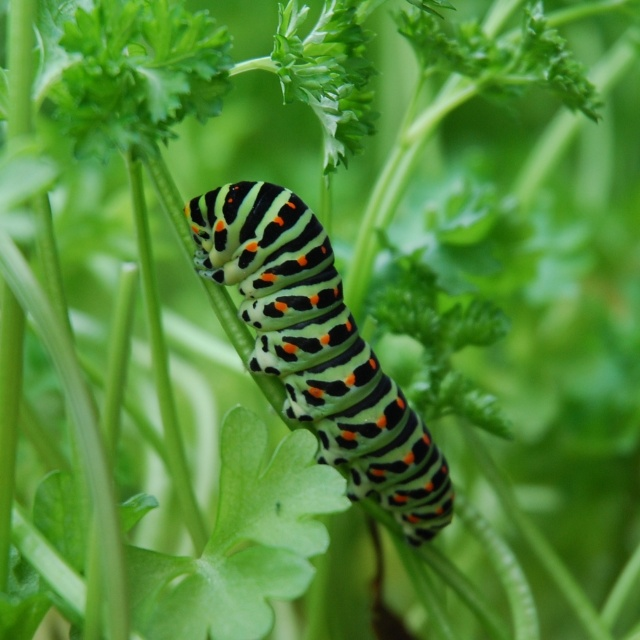Caterpillar: (182, 180, 454, 549)
